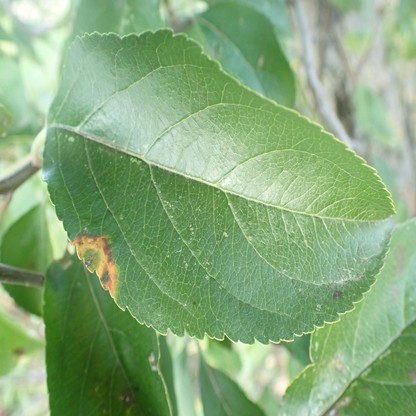powder: (322, 268, 365, 284)
rust: (72, 232, 118, 296)
scab: (392, 244, 406, 275), (333, 351, 343, 373)
